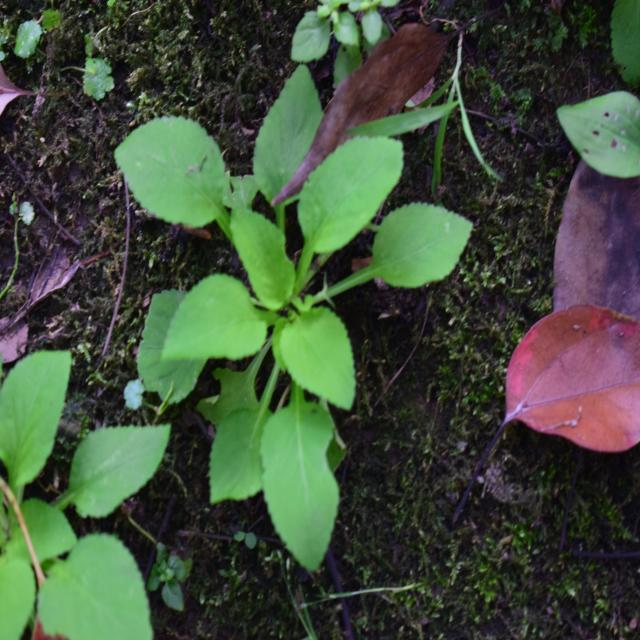Viola: (116, 103, 439, 535)
